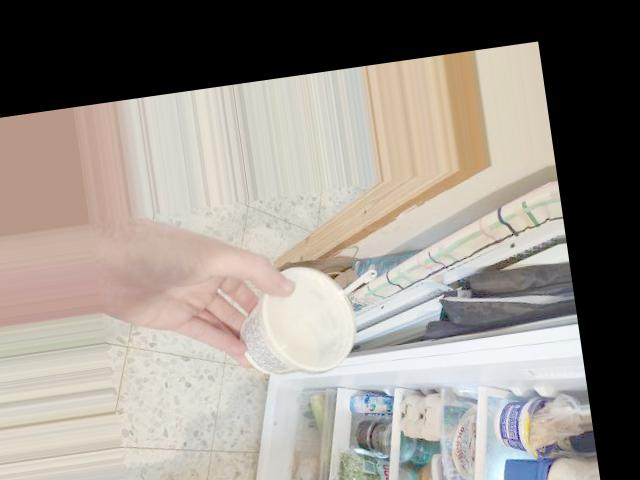cotage: (235, 266, 370, 376)
